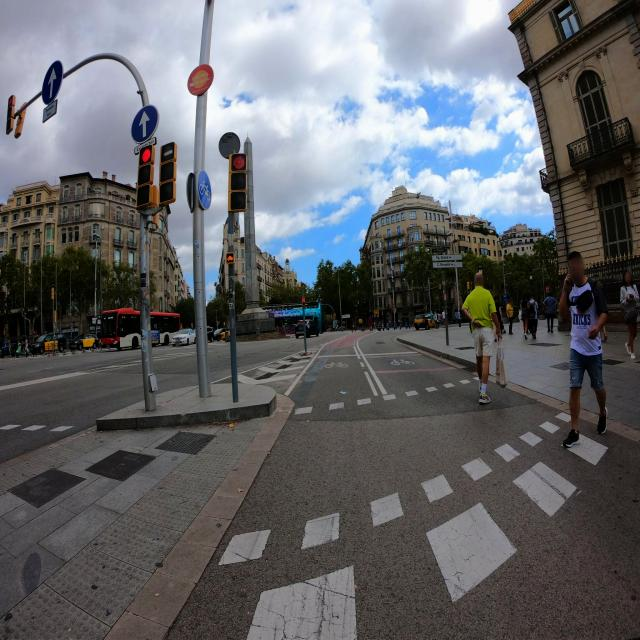car: (295, 315, 319, 338), (70, 333, 99, 350), (171, 328, 197, 346), (414, 311, 434, 330), (0, 341, 18, 357), (222, 327, 231, 341), (213, 327, 222, 341), (207, 326, 214, 340)
